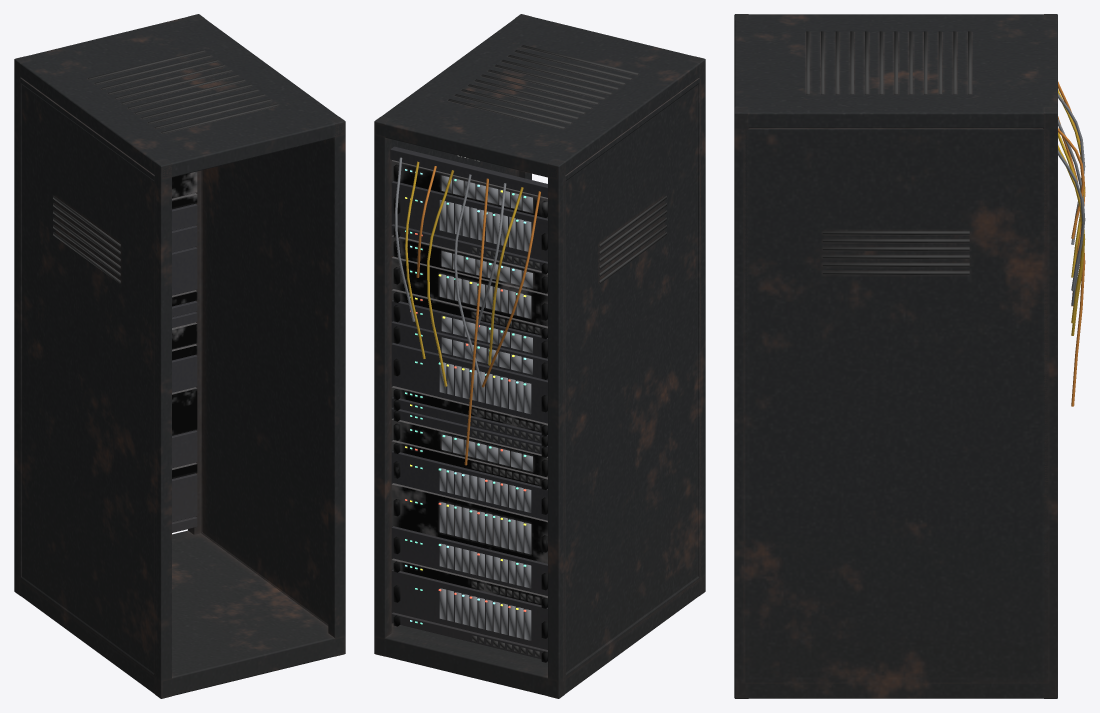
The model's file is rack_servidor.glb.
The picture shows the model from 3 angles, left to right: view 1: azimuth 30°, elevation 25°; view 2: azimuth 150°, elevation 25°; view 3: azimuth 270°, elevation 25°; orthographic projection. The views are drawn at different scales.
Parts seen in each view (by area): view 1: rack_servidor; view 2: rack_servidor; view 3: rack_servidor.
Boxes of the visible parts, x1,y1,x2,y2 form: rack_servidor: [14, 14, 345, 698]; rack_servidor: [374, 14, 705, 698]; rack_servidor: [734, 14, 1085, 698].
Bounding box in the file's own units: 0.808 × 2.2 × 1.19.
Materials: 5 (1 with a texture image).
